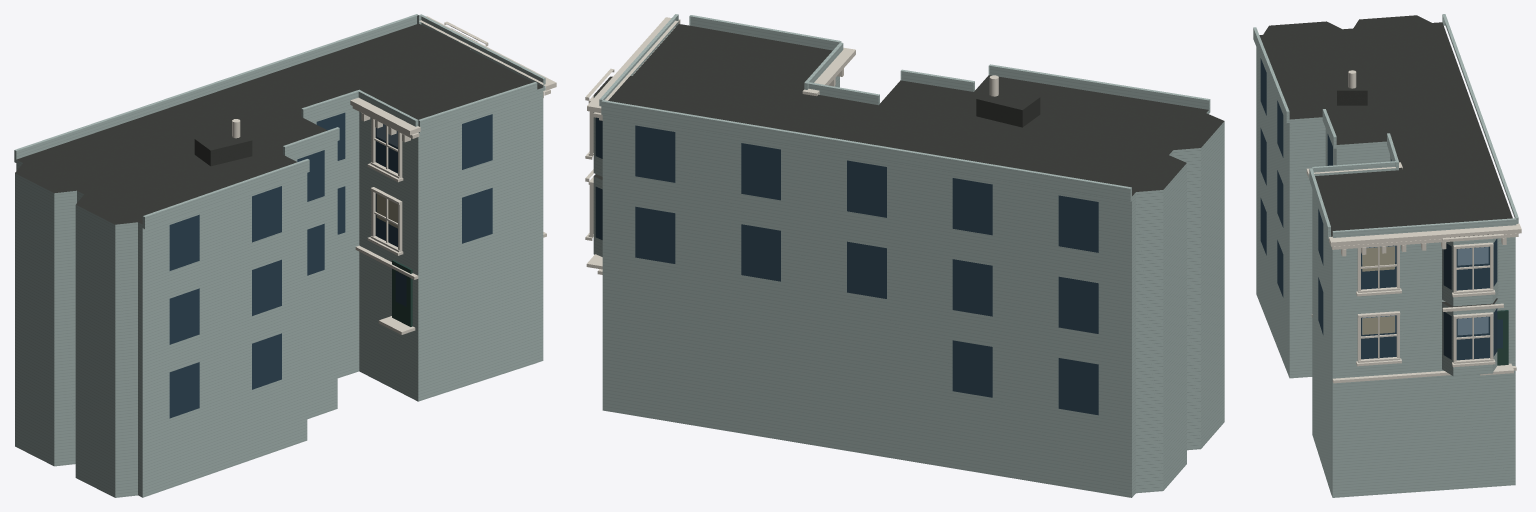
3 views of the same model, side by side, from view 1: azimuth 30°, elevation 25°; view 2: azimuth 150°, elevation 25°; view 3: azimuth 270°, elevation 25° (orthographic). The views are drawn at different scales.
Parts seen in each view (by area): view 1: Footprint 0 / surface 2, Footprint 0 / surface 1, Inset glazing, Facade bay volumes, Cornices and window frames, Storefronts and doors, Inferred rooftop service enclosure / surface 5, Inferred rooftop service enclosure / surface 3; view 2: Footprint 0 / surface 2, Footprint 0 / surface 1, Inset glazing, Facade bay volumes, Cornices and window frames, Inferred rooftop service enclosure / surface 6, Inferred rooftop service enclosure / surface 3; view 3: Footprint 0 / surface 2, Footprint 0 / surface 1, Cornices and window frames, Inset glazing, Facade bay volumes, Interior blind variation, Sky reflection panels, Inferred rooftop service enclosure / surface 3, Storefronts and doors, Inferred rooftop service enclosure / surface 1.
Boxes of the visible parts, x1,y1,x2,y2 form: Footprint 0 / surface 2: (15, 87, 543, 497); Footprint 0 / surface 1: (15, 23, 542, 224); Inset glazing: (169, 112, 492, 418); Facade bay volumes: (14, 14, 545, 228); Cornices and window frames: (350, 16, 556, 334); Storefronts and doors: (392, 260, 412, 326); Inferred rooftop service enclosure / surface 5: (210, 140, 252, 166); Inferred rooftop service enclosure / surface 3: (195, 130, 251, 150); Footprint 0 / surface 2: (602, 76, 1224, 497); Footprint 0 / surface 1: (610, 24, 1224, 195); Inset glazing: (595, 117, 1098, 415); Facade bay volumes: (593, 14, 1210, 256); Cornices and window frames: (585, 17, 855, 274); Inferred rooftop service enclosure / surface 6: (976, 99, 1022, 127); Inferred rooftop service enclosure / surface 3: (977, 87, 1039, 109); Footprint 0 / surface 2: (1256, 47, 1515, 497); Footprint 0 / surface 1: (1259, 15, 1512, 236); Cornices and window frames: (1306, 162, 1521, 383); Inset glazing: (1260, 58, 1502, 360); Facade bay volumes: (1253, 14, 1518, 376); Interior blind variation: (1362, 246, 1394, 334); Sky reflection panels: (1362, 245, 1488, 335); Inferred rooftop service enclosure / surface 3: (1337, 71, 1367, 90); Storefronts and doors: (1497, 310, 1508, 365); Inferred rooftop service enclosure / surface 1: (1337, 90, 1367, 105).
Size of the model in its own units: 21.39 by 12.55 by 10.57.
